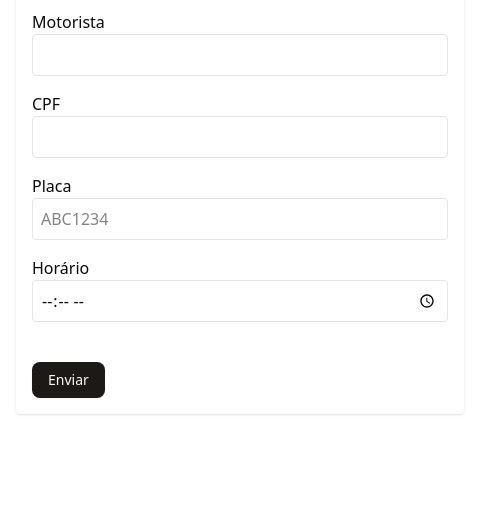
DriverForm › mostra erros de validação quando campos estão vazios
This screenshot has width=481, height=528.
Click the button "Enviar": (68, 380) [32,362,105,398]
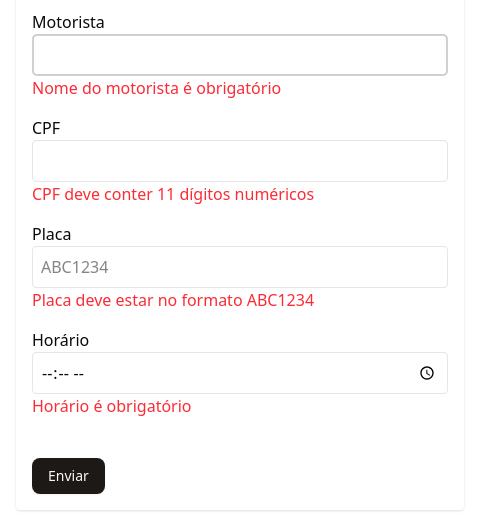
expect the number of elements with test id "form-field-error" is 4: met, box [32,77,281,99]; [32,183,314,205]; [32,289,314,311]; [32,395,192,417]
